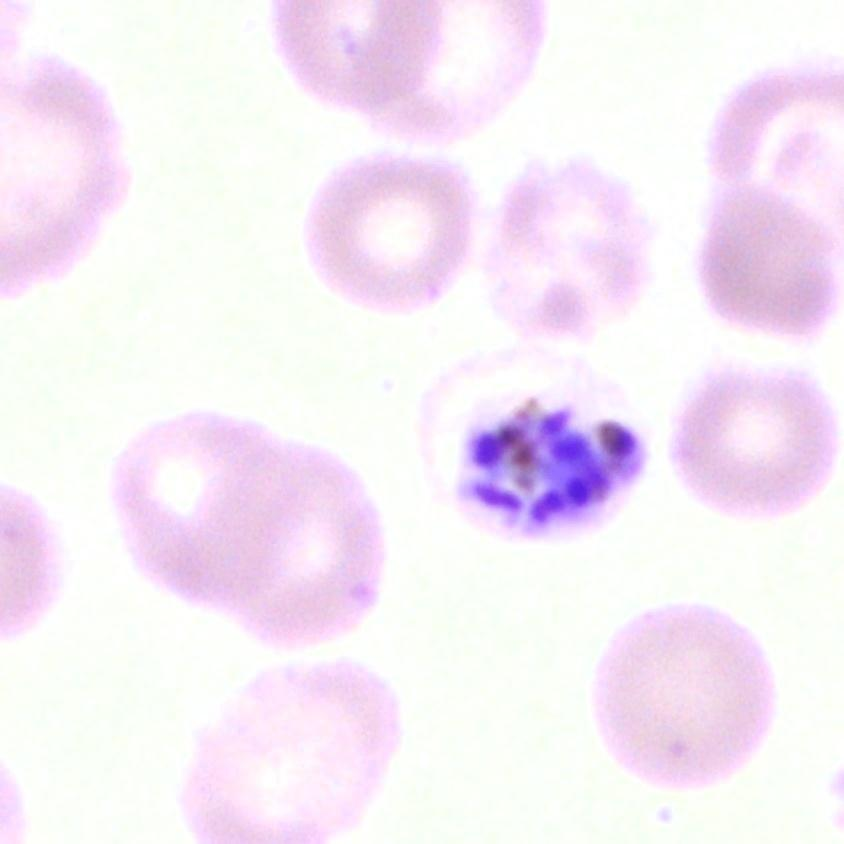Infected: (415, 342, 650, 537)
Uninfected: (178, 667, 404, 844), (108, 409, 290, 606), (210, 447, 384, 651), (593, 600, 771, 788), (480, 154, 660, 337), (0, 49, 130, 294), (348, 0, 542, 146), (303, 150, 478, 311), (673, 360, 835, 521), (705, 57, 844, 237), (697, 184, 836, 342), (267, 0, 454, 112)
